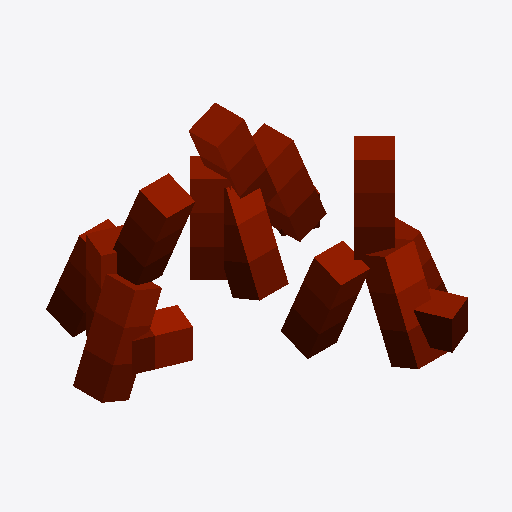
Isometric view (azimuth 45°, elevation 35.3°) of a Minecraft model made of 15 cuboids, textured from the same repository.
Visible parts, largest first — Stalk (×14).
Part boxes in pixels (bbox=[...]): Stalk (×14): bbox=[46, 103, 467, 402].
Bounding box in the file's own units: 9.12 × 6.15 × 8.22.